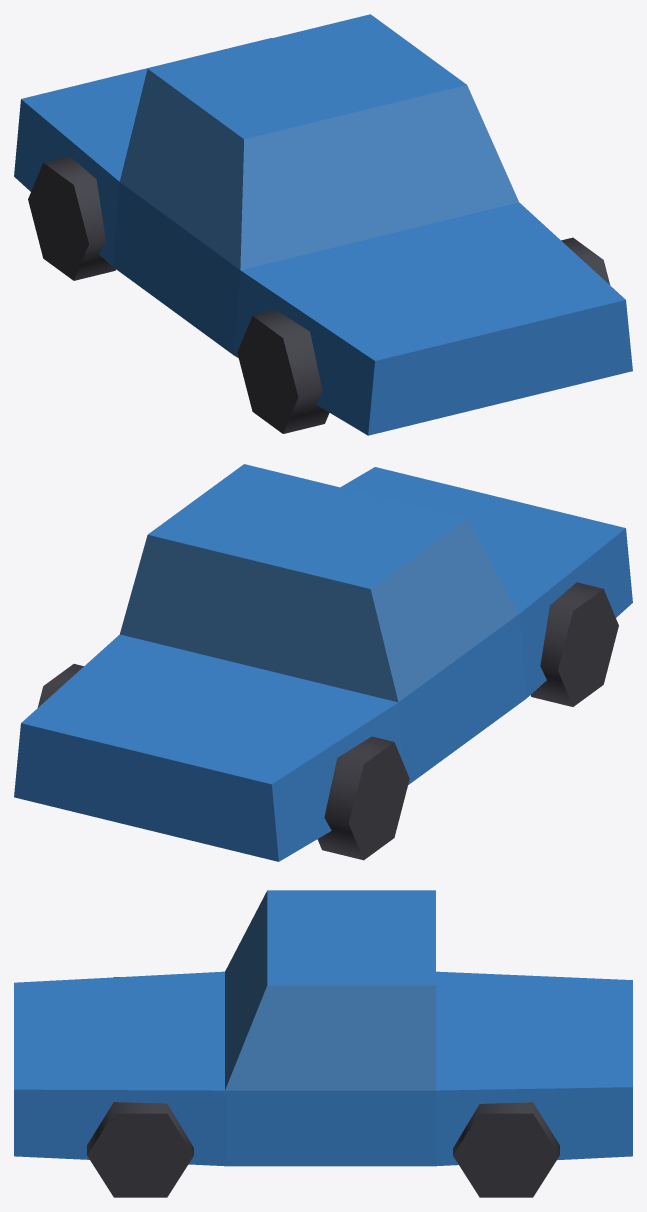
The model's file is Kit_Car.glb.
The picture shows the model from 3 angles, top to bottom: view 1: azimuth 30°, elevation 25°; view 2: azimuth 150°, elevation 25°; view 3: azimuth 270°, elevation 25°; orthographic projection. The views are drawn at different scales.
Parts seen in each view (by area): view 1: Kit_Car; view 2: Kit_Car; view 3: Kit_Car.
Boxes of the visible parts, x1,y1,x2,y2 form: Kit_Car: (14,14,632,435); Kit_Car: (14,464,632,861); Kit_Car: (14,890,632,1197).
Size of the model in its own units: 2.3 by 1.5 by 4.4.
